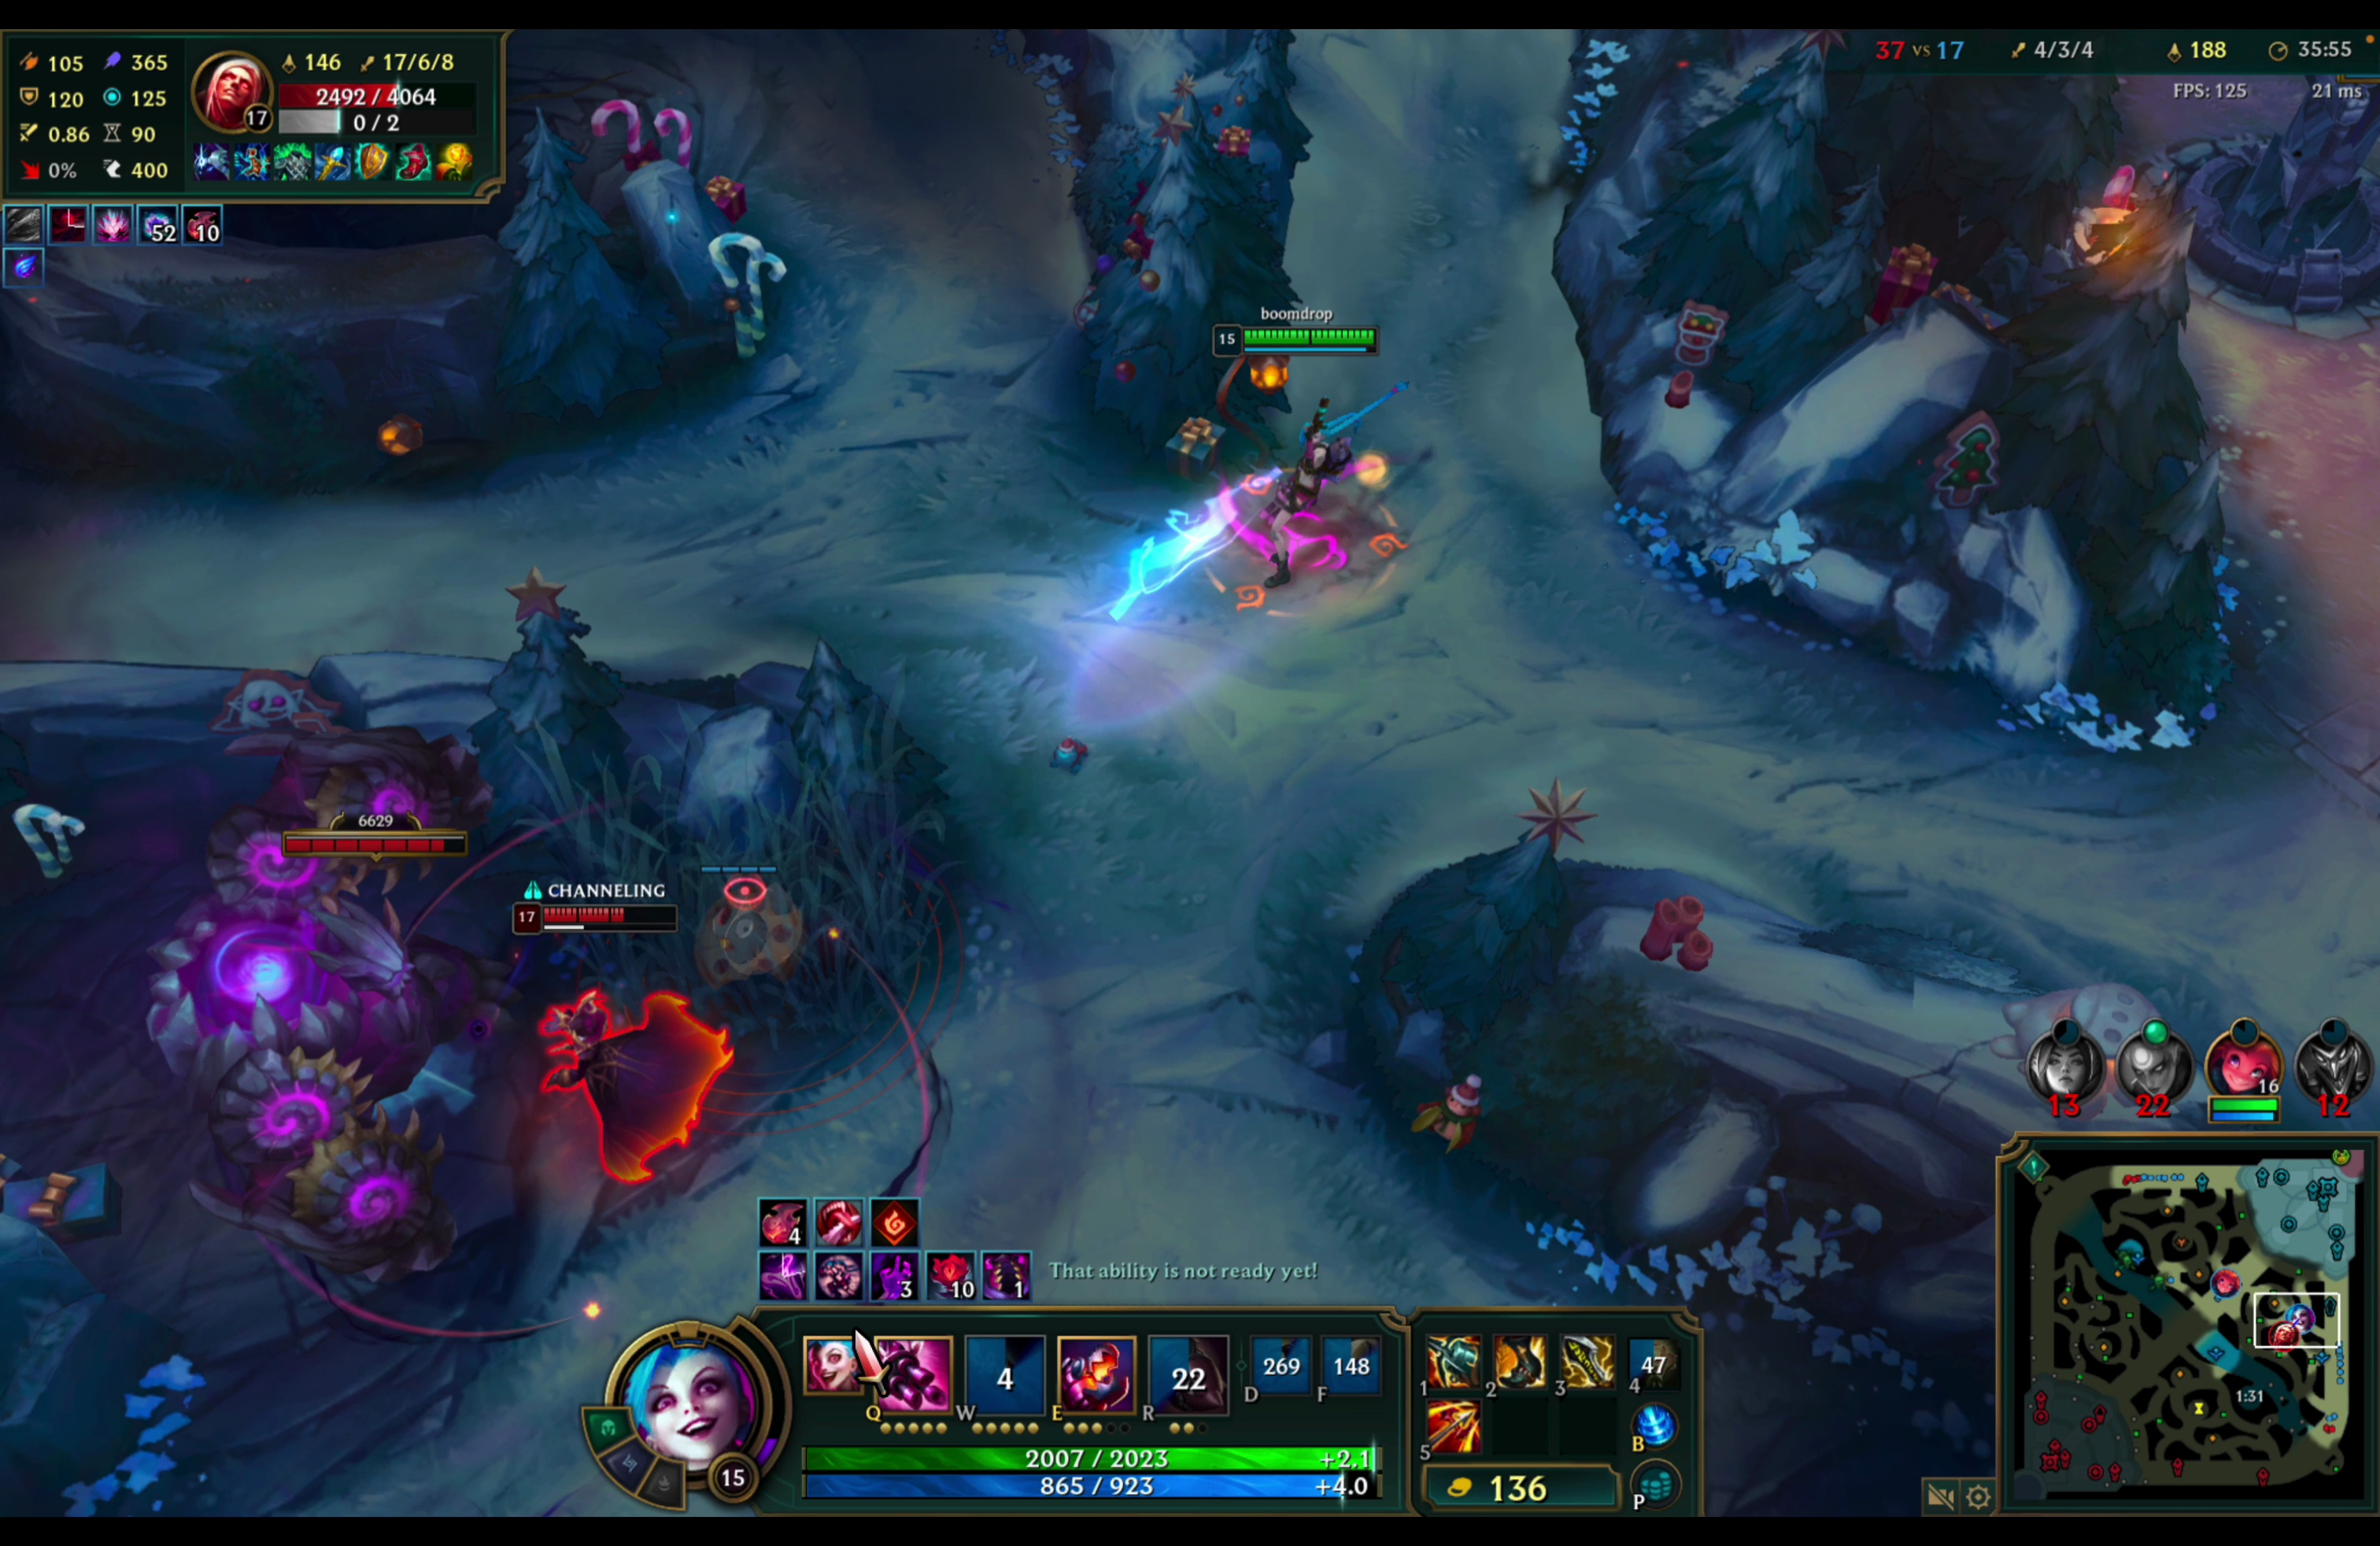JINX_W_PROJECTILE: (1082, 293, 1433, 685)
